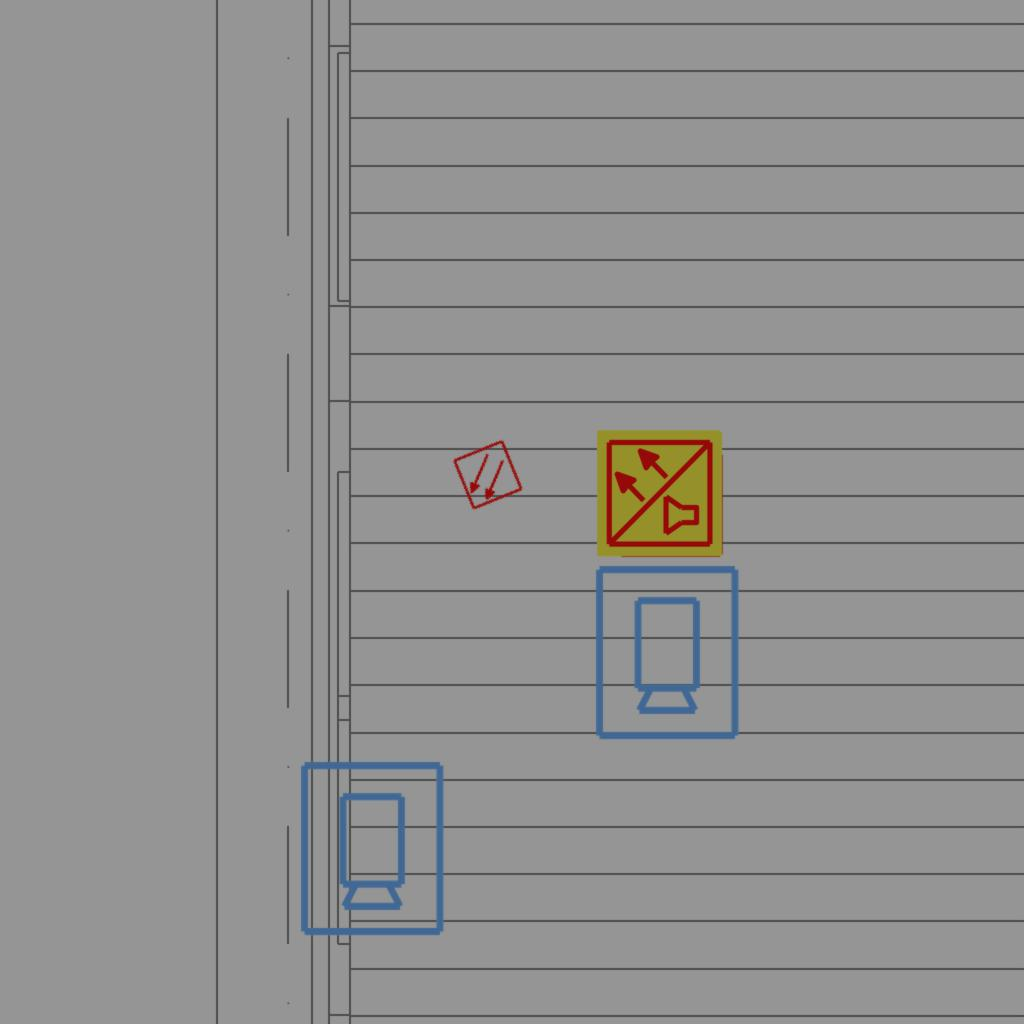KFO_Kamera_mit_Festobjektiv: (294, 757, 448, 939), (589, 561, 743, 743)
OKW_Multisensormelder_(Kombination_optischer_Rauch-Kahlenmonoxid_Waerme-Melder): (594, 427, 726, 559)
RMO_Rauchmelder_optischer: (451, 438, 525, 512)
